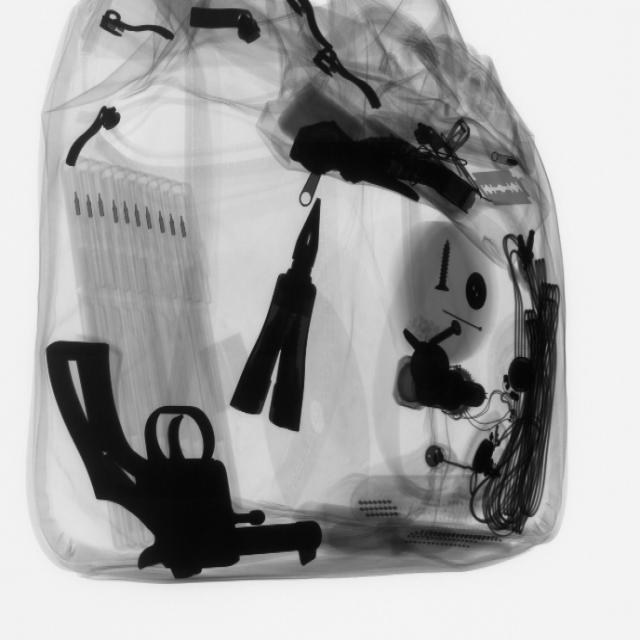BLADE: (466, 162, 532, 212)
GUN: (42, 337, 324, 573)
SCREW: (423, 230, 464, 299)
